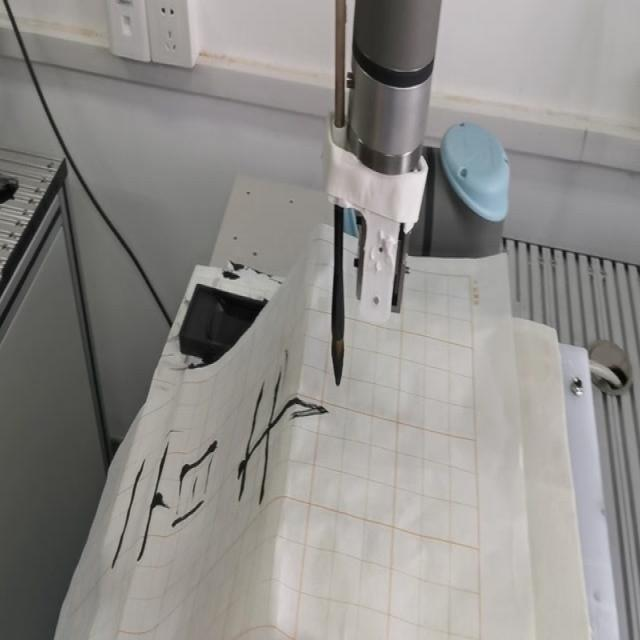head: (322, 332, 349, 382)
inkstone: (178, 286, 272, 368)
writing-brush: (326, 7, 354, 383)
